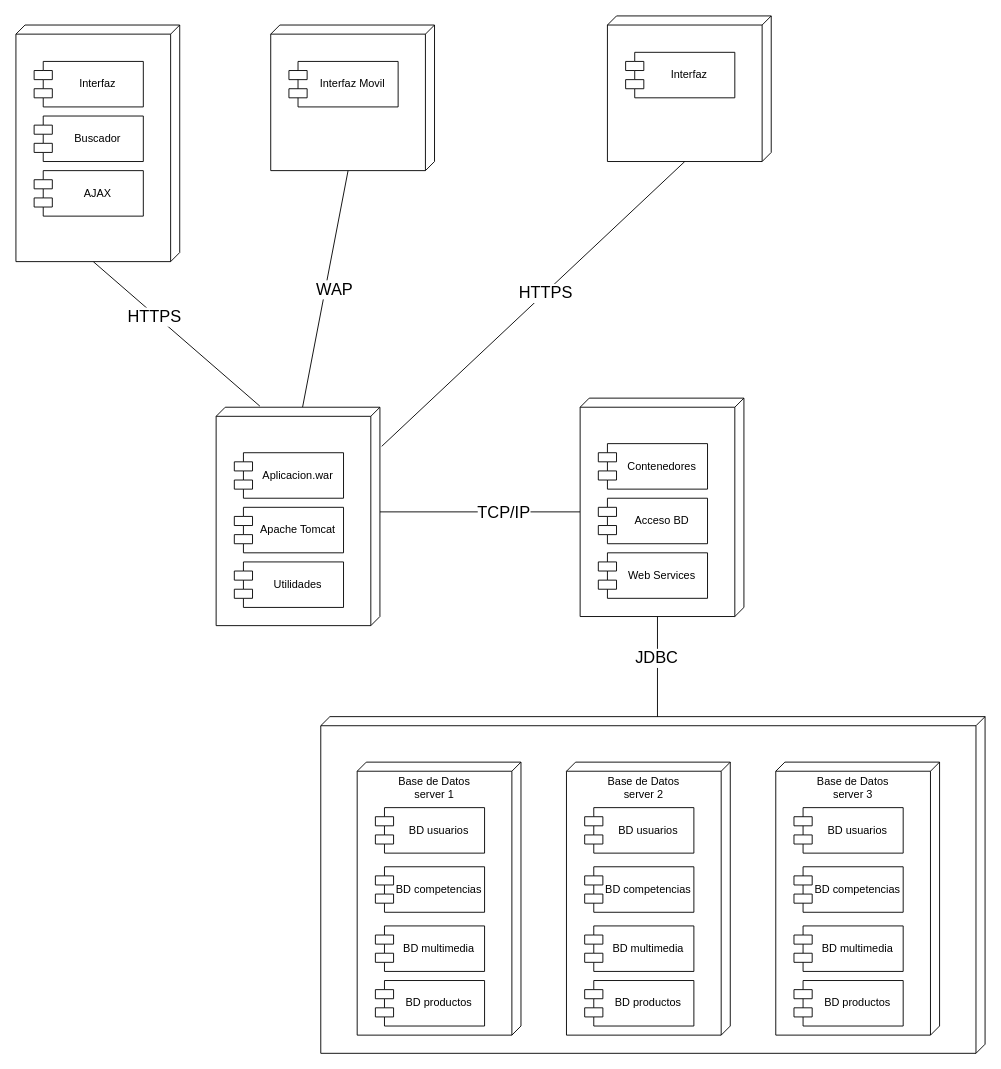
This 1001x1069 diagram has some shape labels left out. Each missing label, with the box of its shape:
Cliente: (15, 24, 180, 262)
Cliente Movil: (270, 24, 435, 171)
Plataforma de pagos: (607, 15, 771, 162)
Servidor Apliaciones: (579, 397, 744, 617)
Servidor de base de datos: (320, 716, 985, 1053)
Servidor Web: (215, 406, 380, 626)
